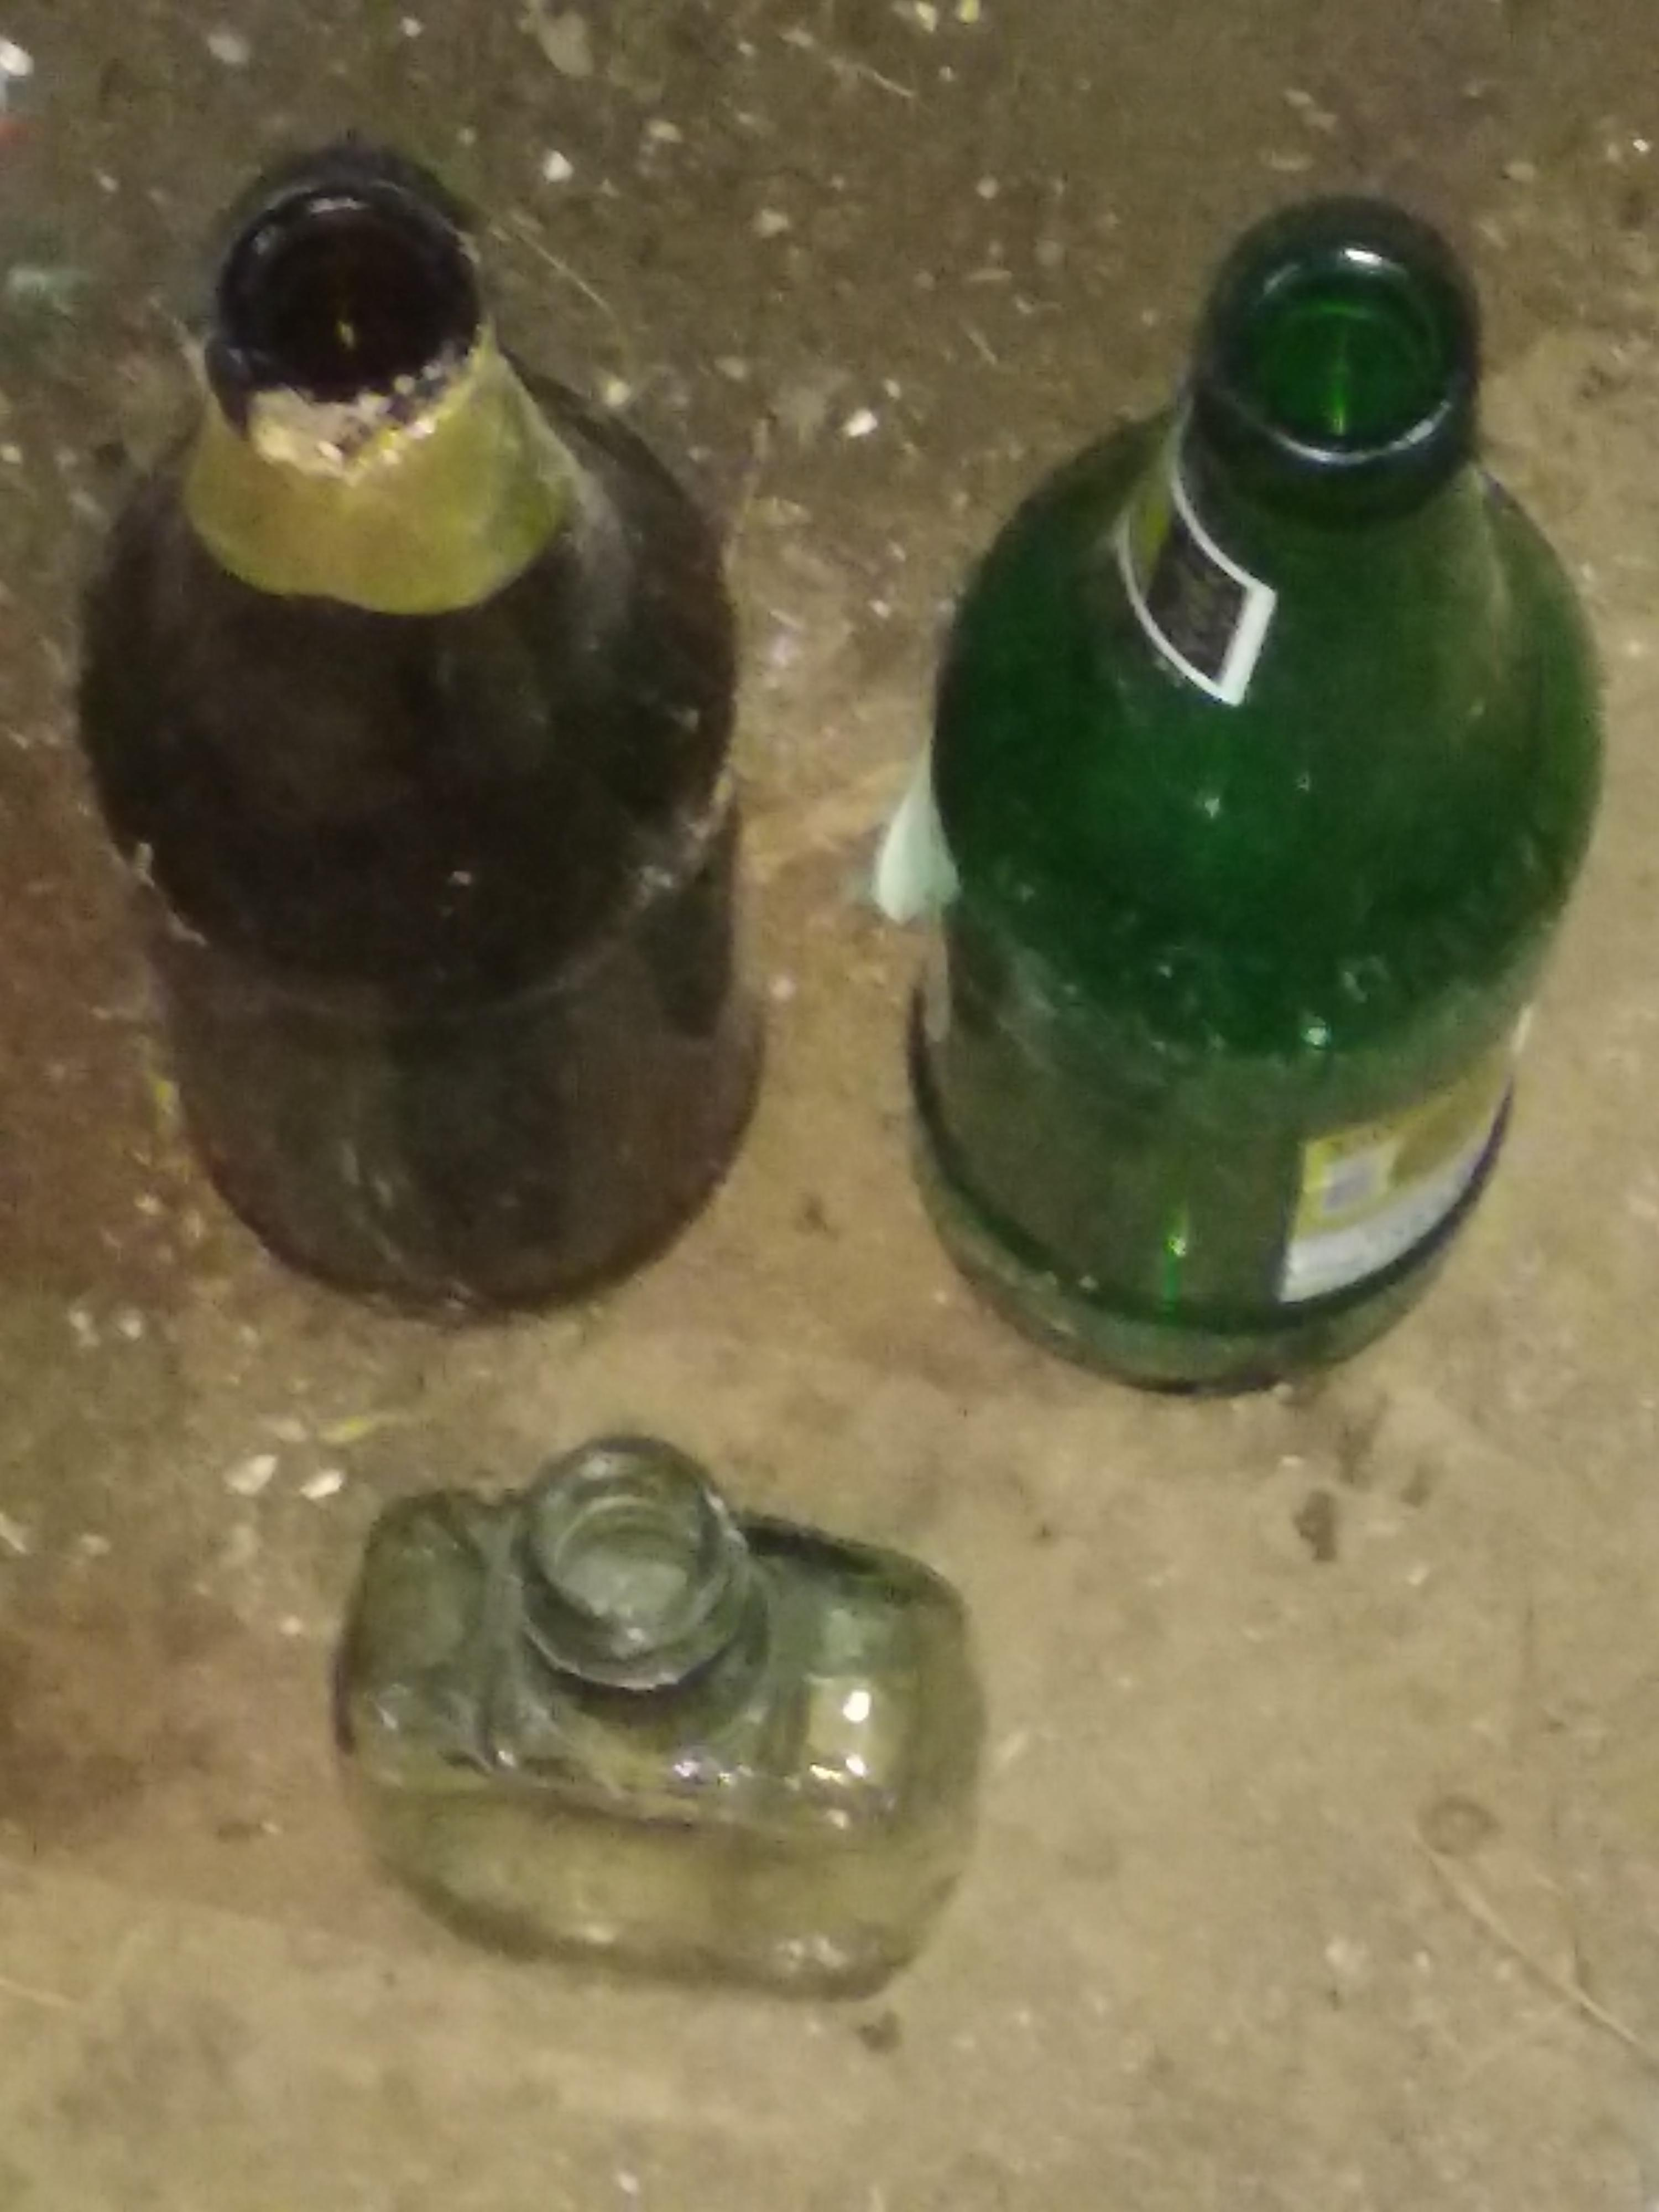trash: (70, 153, 1605, 1998)
